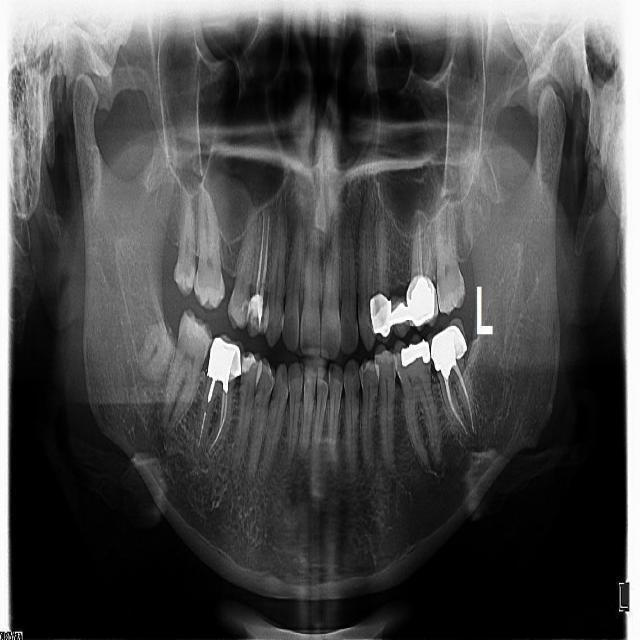Crown: (427, 317, 466, 369), (407, 274, 440, 327), (208, 333, 244, 379), (370, 292, 392, 343), (390, 297, 412, 339)
Filling: (433, 339, 457, 379), (400, 339, 430, 367), (248, 293, 263, 328), (242, 353, 255, 374)
Root Canal Treatment: (453, 364, 475, 433), (443, 375, 467, 434), (209, 390, 228, 452), (255, 209, 265, 294), (260, 212, 269, 298), (199, 412, 207, 448), (419, 210, 423, 275), (425, 242, 432, 278)
Root Piece: (140, 328, 178, 381), (136, 316, 170, 366)
